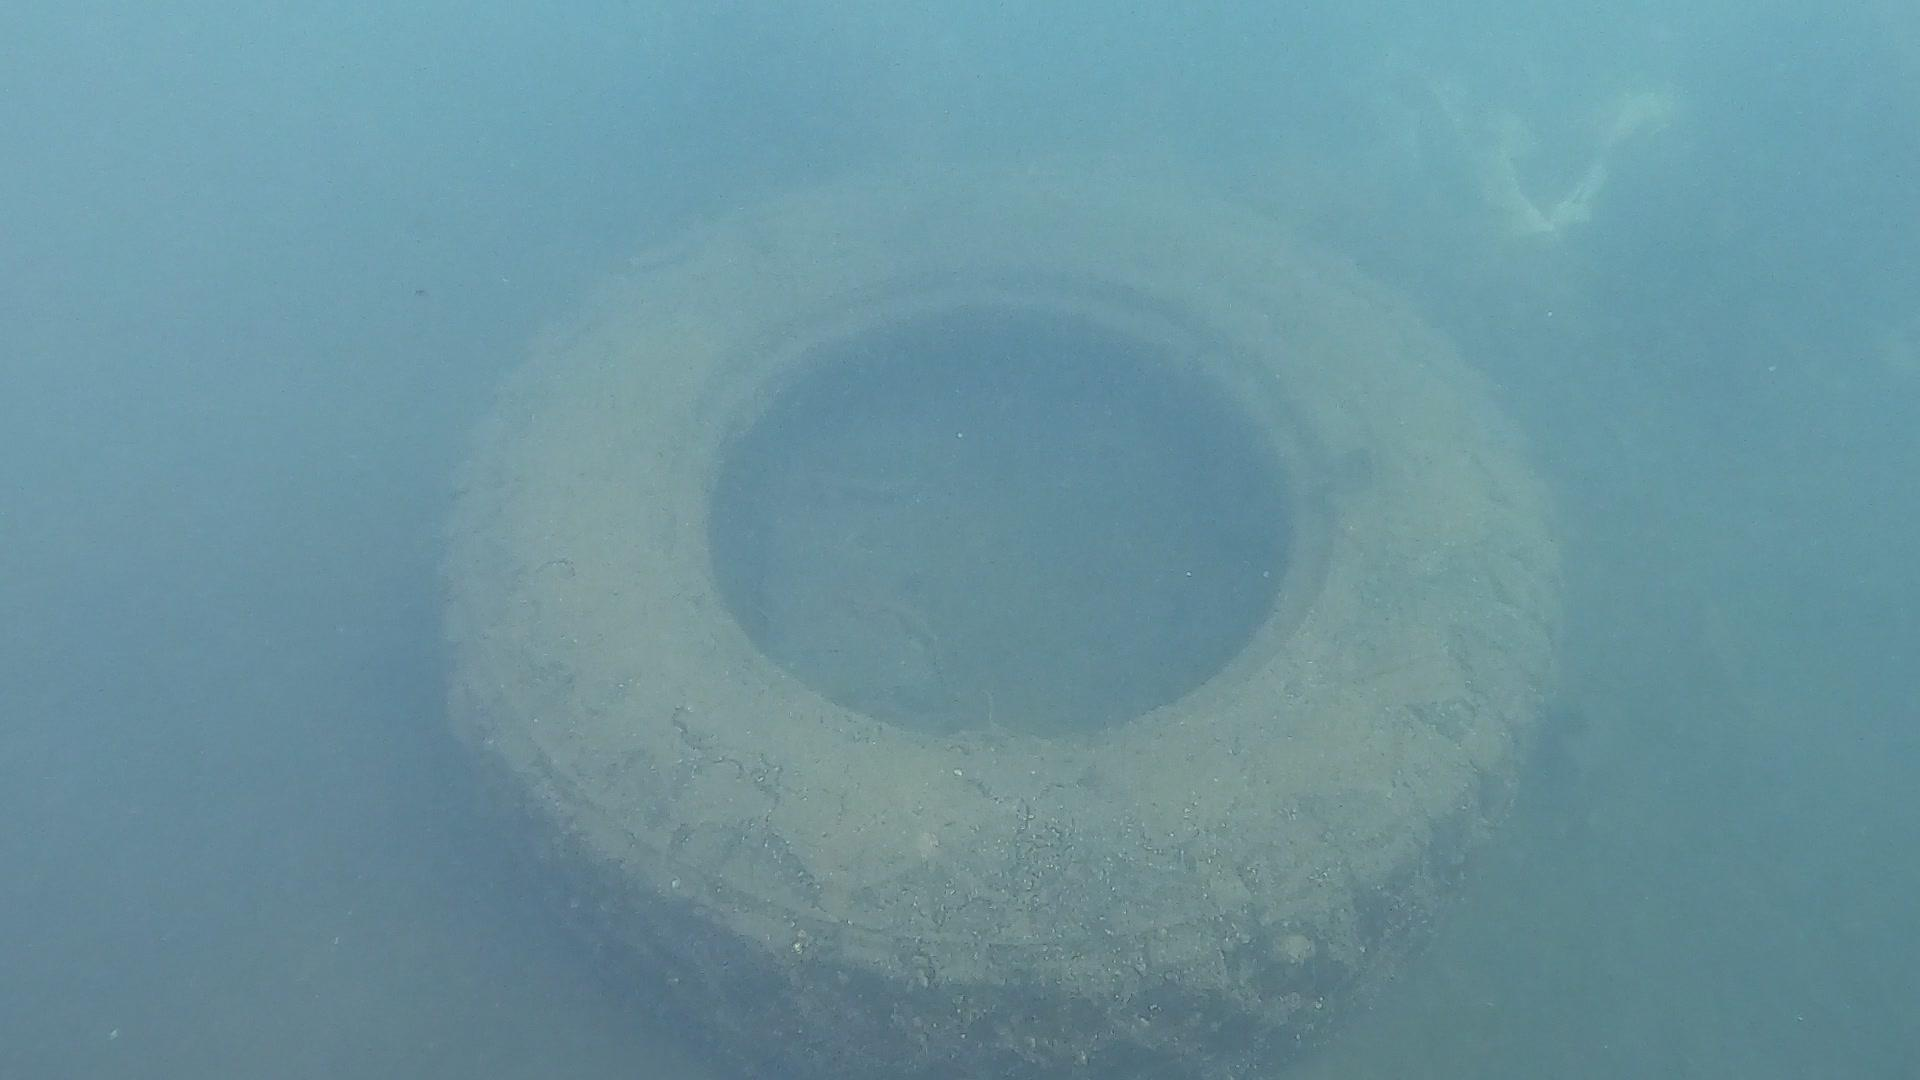tire: (433, 156, 1576, 1080)
